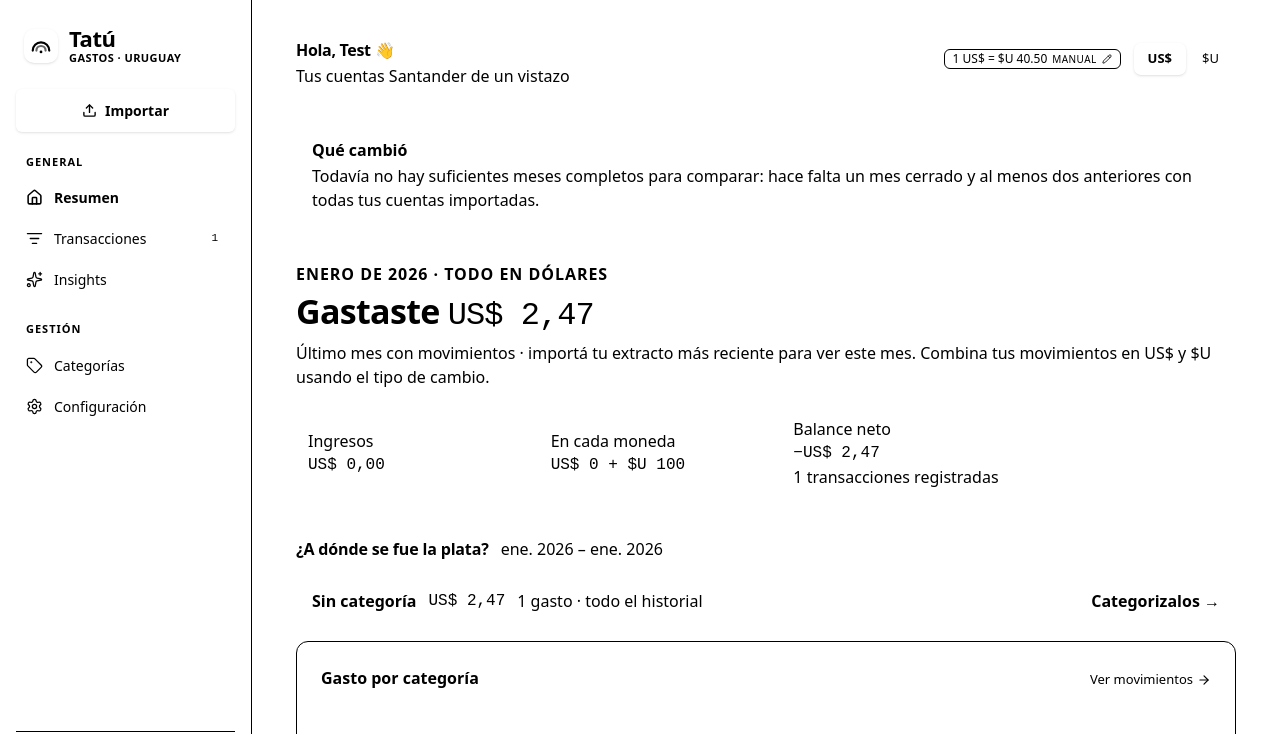
Scenario: App › switches to transactions view from sidebar navigation
This screenshot has width=1280, height=734.
Click the button "Transacciones 1": (126, 239) [16,219,235,258]
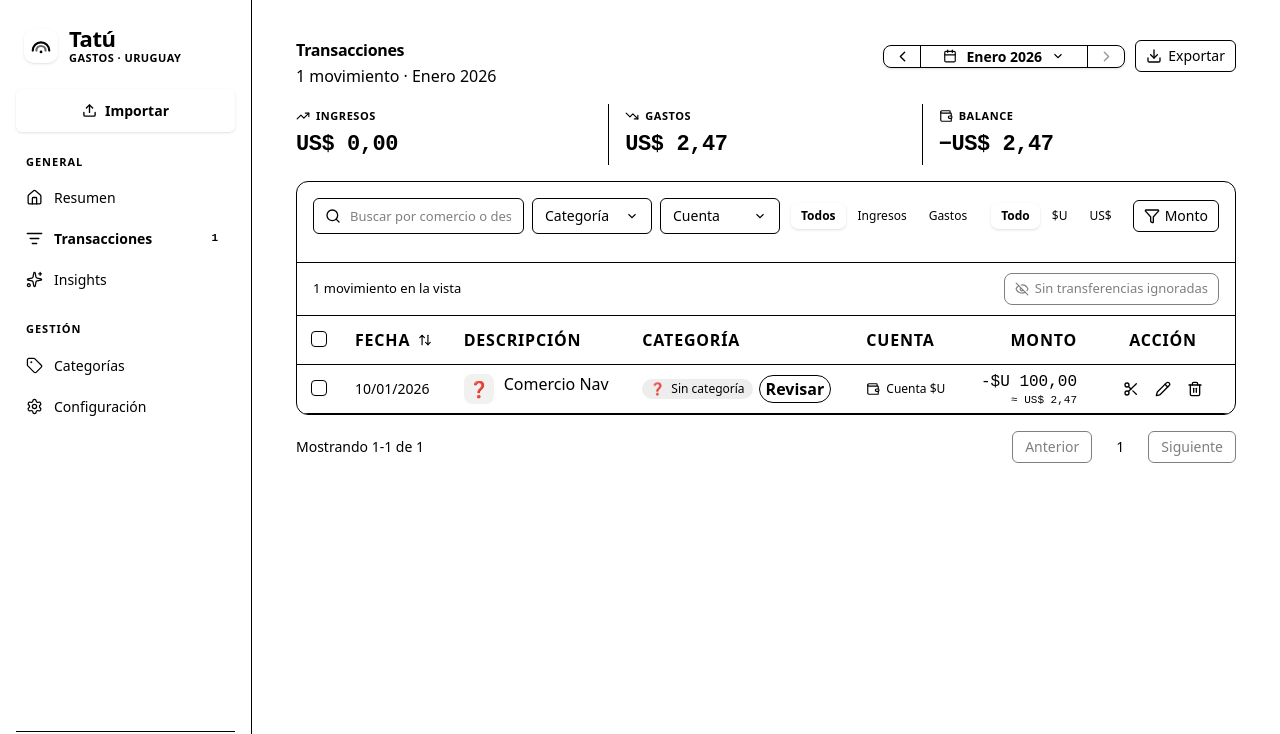
Check: the text "1 movimiento · Enero 2026" is shown, box [296,64,496,88]
Check: the heading "Transacciones" is shown, box [296,39,404,61]
